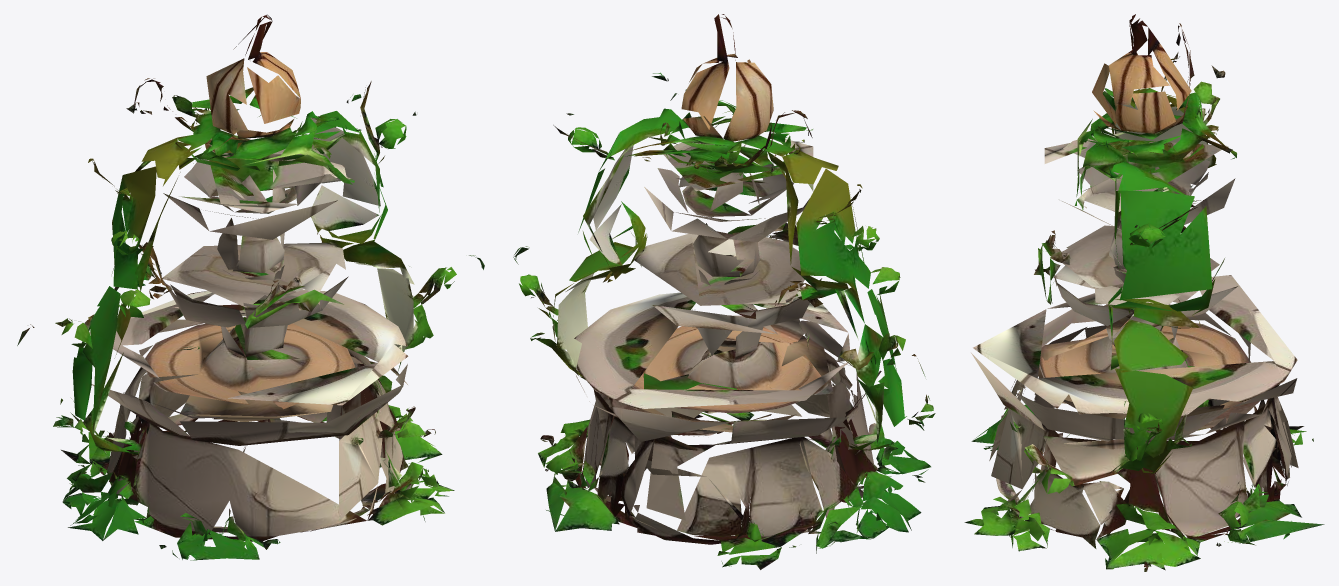
Rendered from bahar_cesmesi.glb.
3 views of the same model, side by side, from view 1: azimuth 30°, elevation 25°; view 2: azimuth 150°, elevation 25°; view 3: azimuth 270°, elevation 25° (orthographic).
Visible parts, largest first — view 1: geometry_0; view 2: geometry_0; view 3: geometry_0.
Part boxes in pixels (x1,y1,x2,y2): geometry_0: (17, 14, 484, 560); geometry_0: (513, 14, 935, 569); geometry_0: (964, 14, 1324, 571).
Bounding box in the file's own units: 0.9877 × 1 × 0.6895.
Materials: 1 (1 with a texture image).
